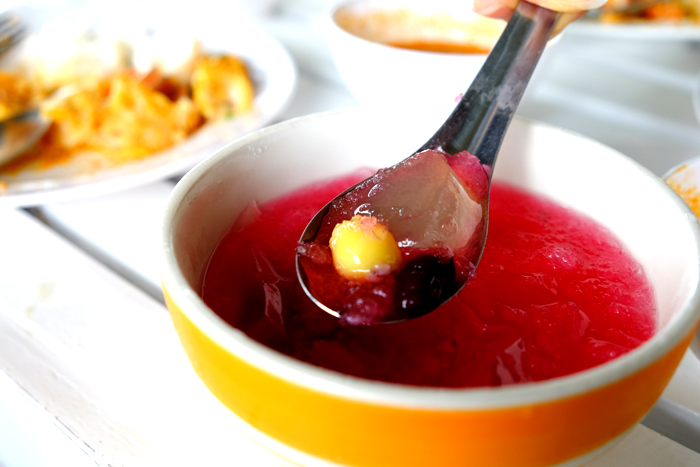O-eo: (170, 110, 698, 467)
